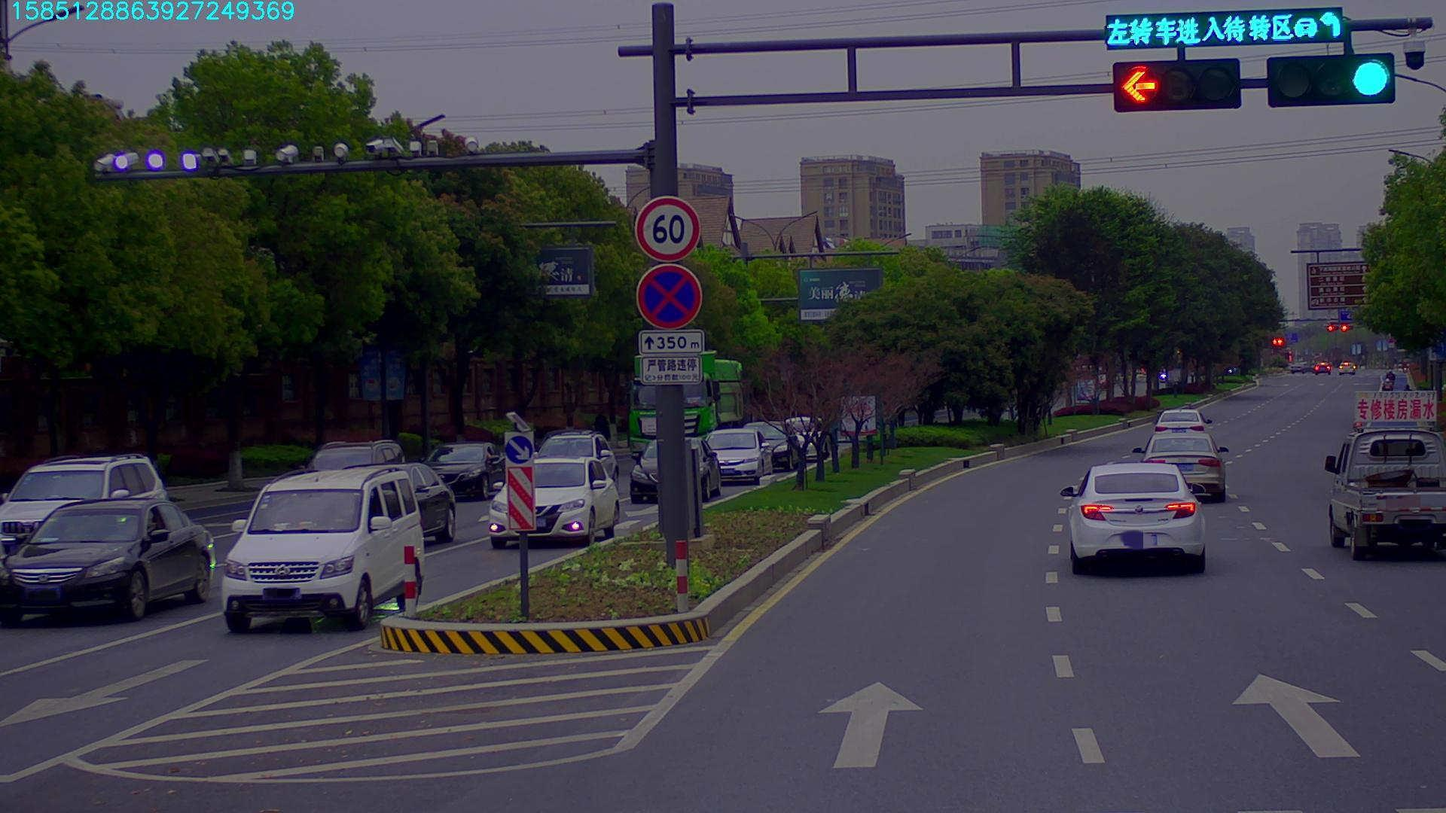green: (1269, 53, 1395, 102)
red: (1107, 60, 1237, 111)
wait_on: (1108, 17, 1349, 43)
